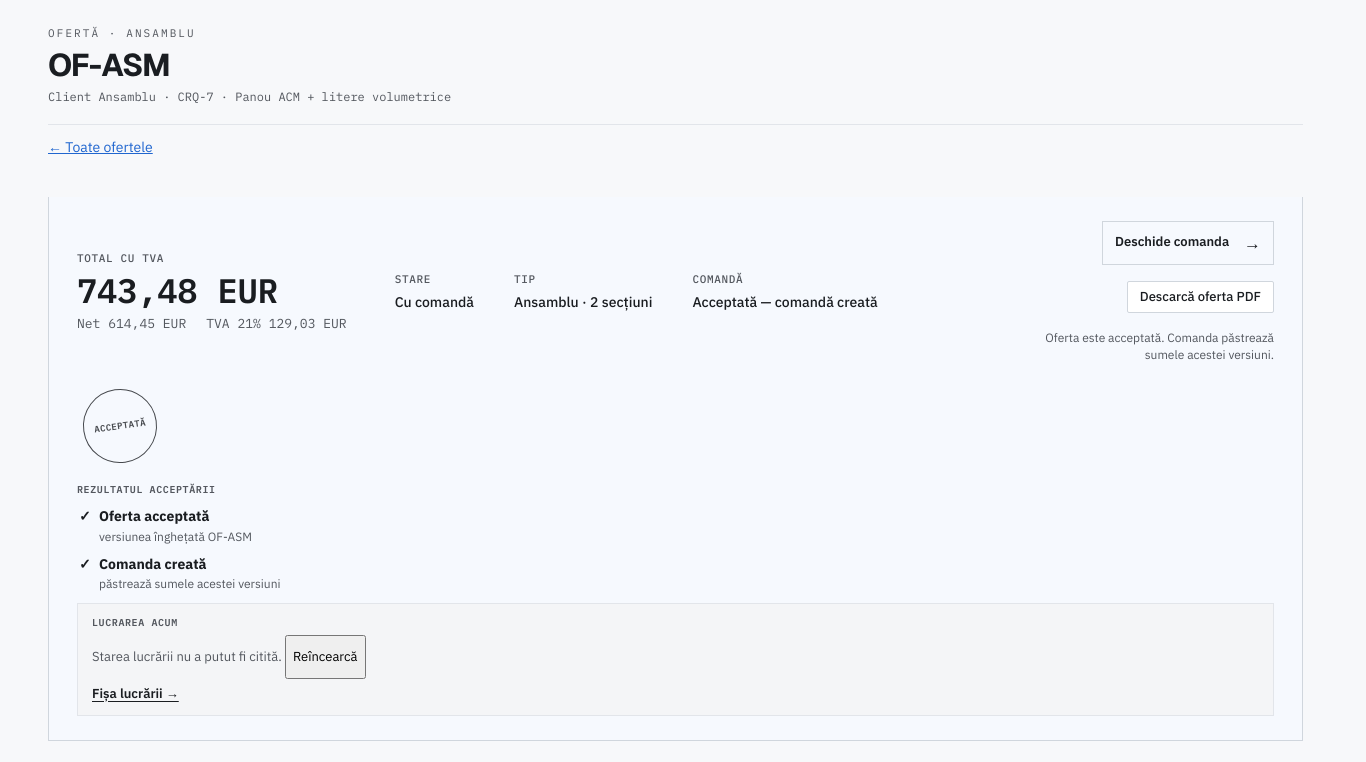
Test: AssemblyQuotePage › downloads the server document and surfaces its refusal
What coordinates should you click on to do the following:
click the button "Descarcă oferta PDF"
I would click on:
 (1200, 297)
Its box is [1127,275,1274,319].
(page scrolled)
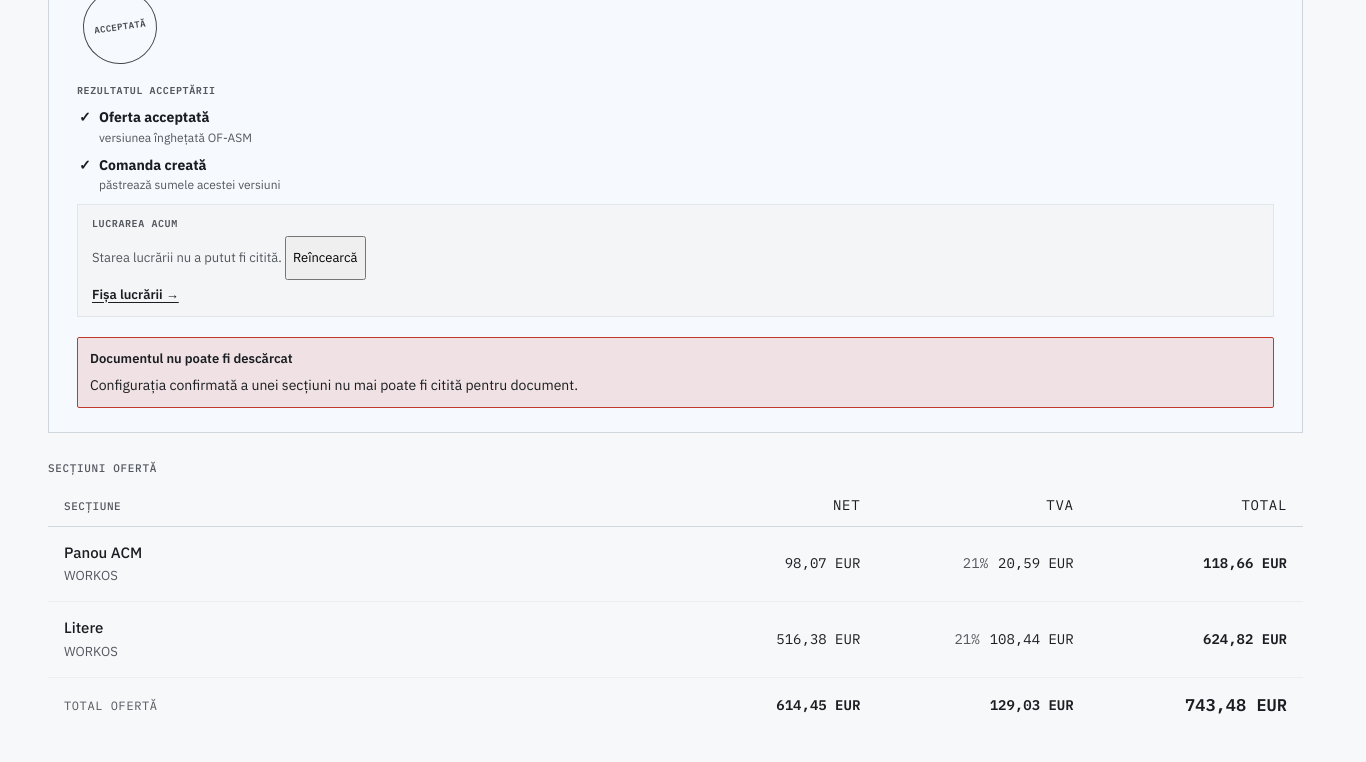
expect the text "Configurația confirmată a unei secțiuni nu mai poate fi citită pentru document." is shown: met, box [90,376,578,394]
